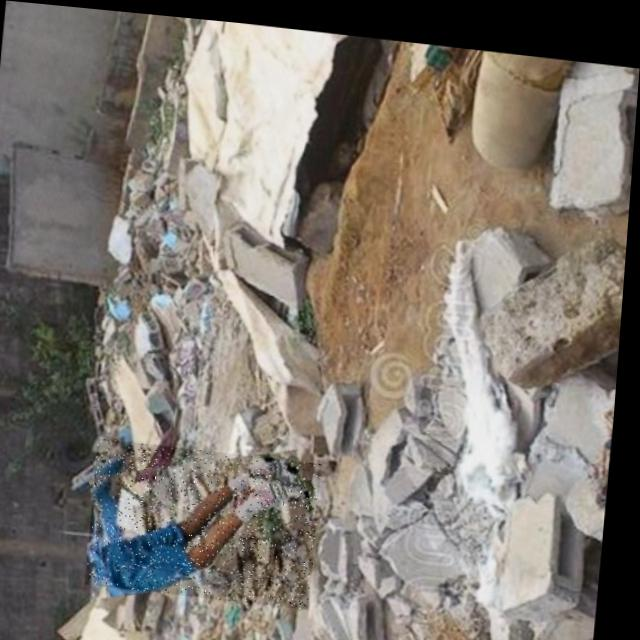Person in Rubble: (93, 434, 329, 601)
